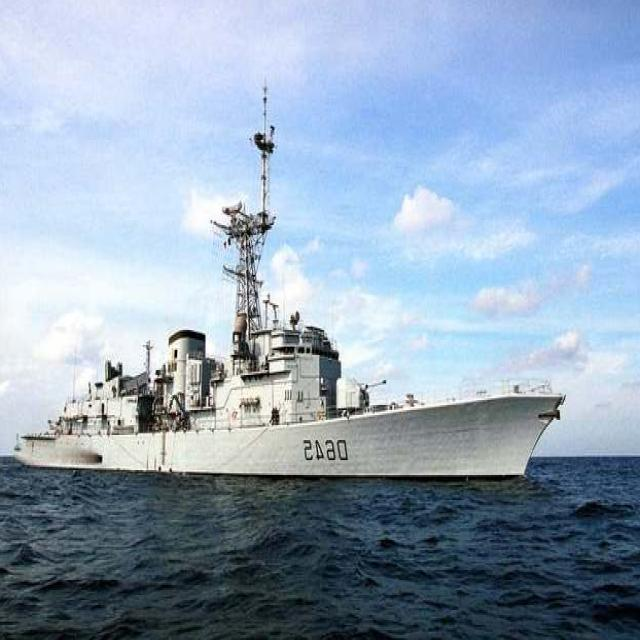navalvessels: (14, 73, 568, 506)
